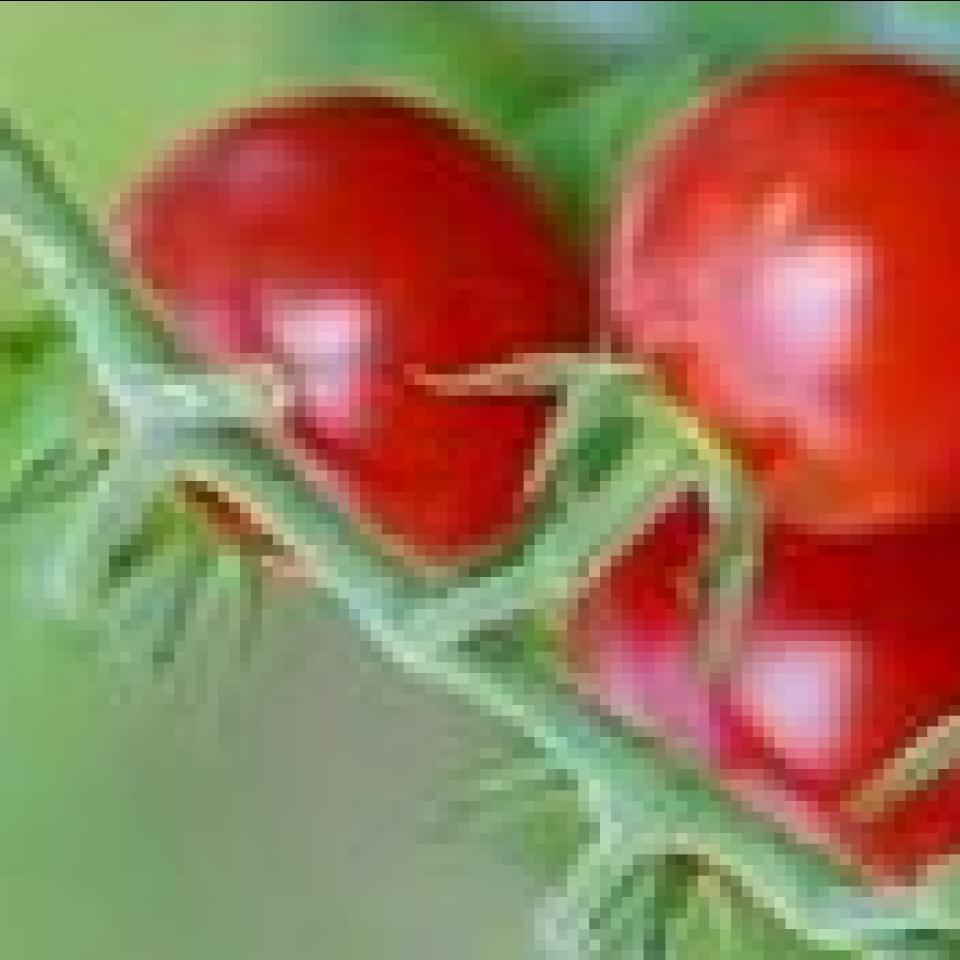Healthy: (48, 79, 610, 567), (578, 33, 960, 554), (502, 490, 960, 918)
